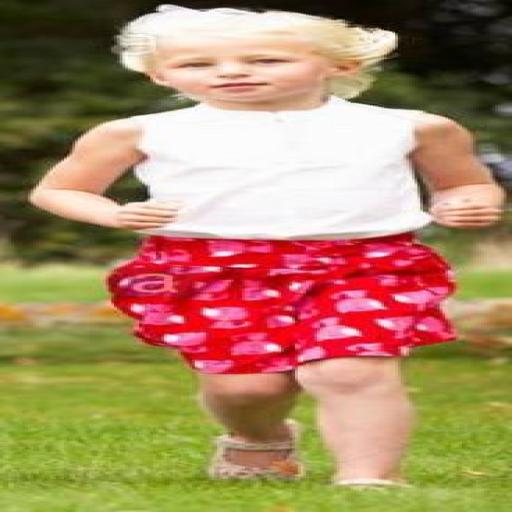person: (31, 5, 503, 488)
